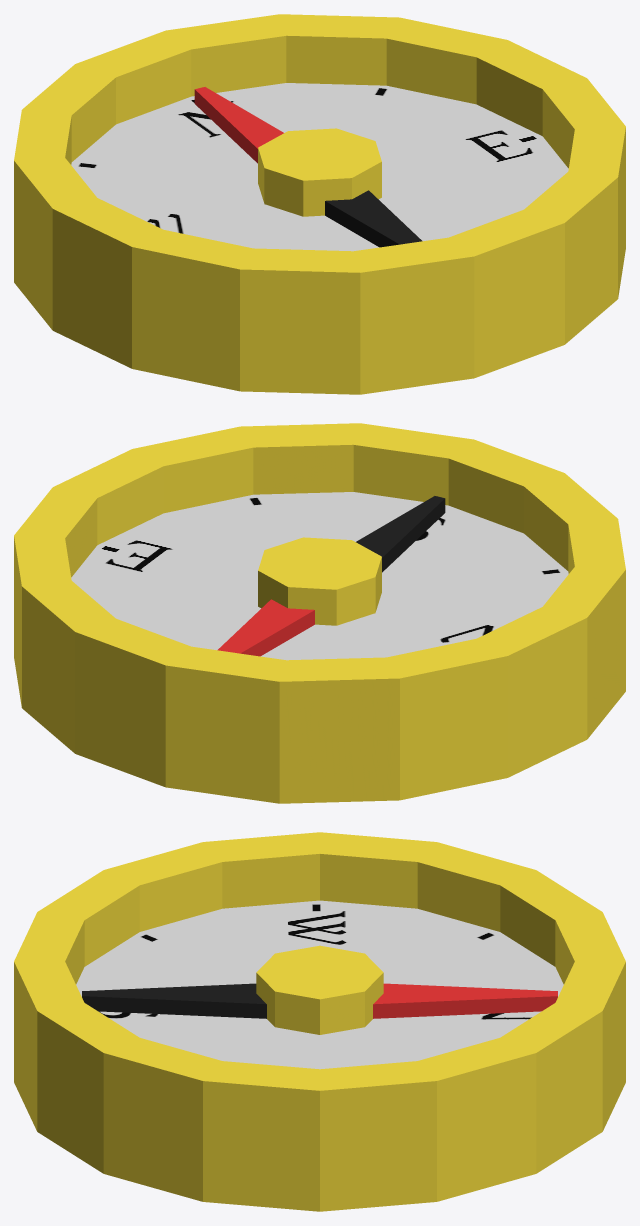
Rendered from compass.fbx.
3 views of the same model, one above another, from view 1: azimuth 30°, elevation 25°; view 2: azimuth 150°, elevation 25°; view 3: azimuth 270°, elevation 25° (orthographic).
Parts seen in each view (by area): view 1: Base, Needle; view 2: Base, Needle; view 3: Base, Needle.
Boxes of the visible parts, x1=… form: Base: x1=14, y1=14, x2=625, y2=394; Needle: x1=194, y1=87, x2=422, y2=247; Base: x1=14, y1=423, x2=625, y2=803; Needle: x1=217, y1=496, x2=445, y2=656; Base: x1=14, y1=832, x2=625, y2=1211; Needle: x1=82, y1=983, x2=557, y2=1018.
Bounding box in the file's own units: 312 × 68.07 × 312.
